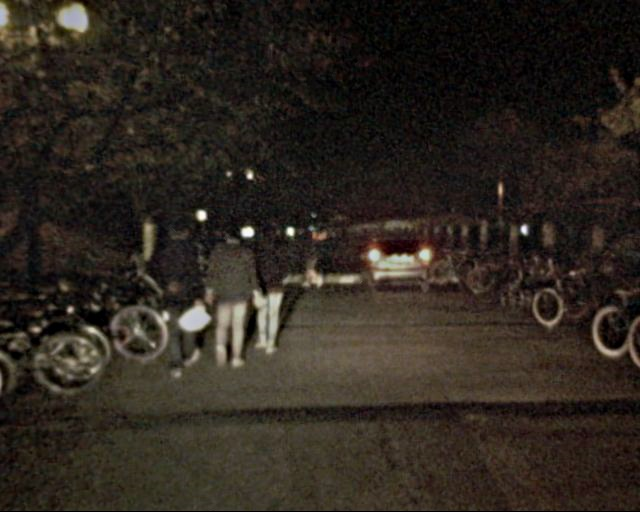person: (149, 214, 215, 378), (203, 224, 262, 371), (240, 223, 296, 354), (292, 224, 319, 288)
